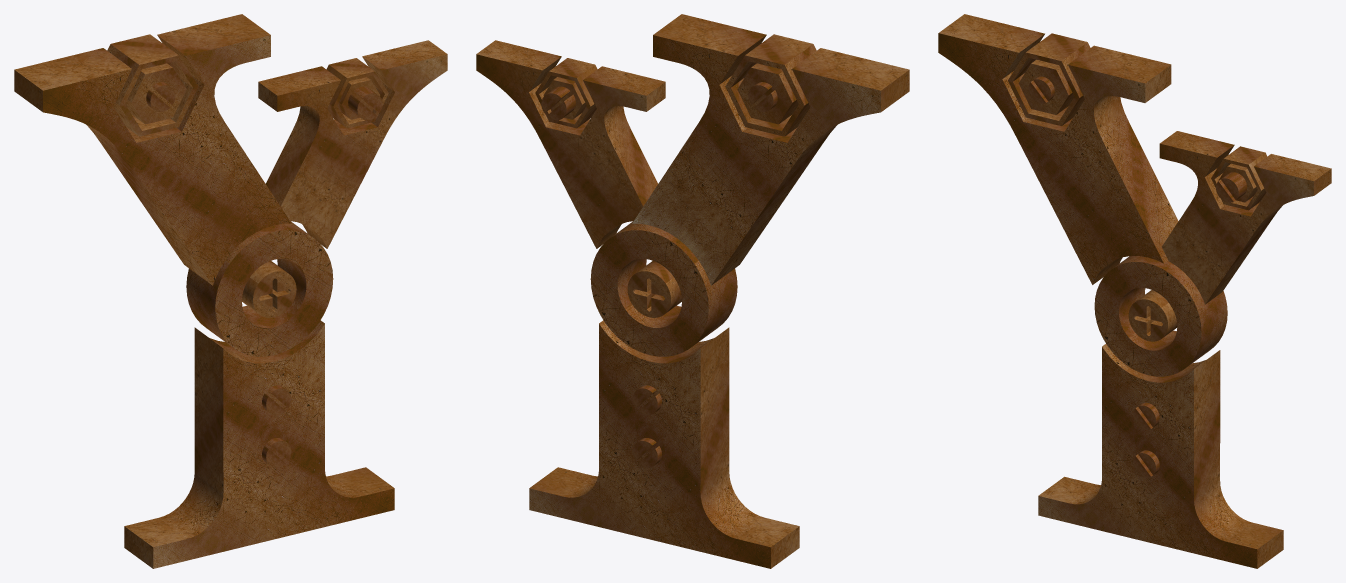
3 views of the same model, side by side, from view 1: azimuth 30°, elevation 25°; view 2: azimuth 150°, elevation 25°; view 3: azimuth 330°, elevation 25° (orthographic). The views are drawn at different scales.
Parts seen in each view (by area): view 1: Y, NGon_011, NGon_008, Screw_487, Screw_809, Screw_808, Screw_813, Screw_814; view 2: Y, NGon_011, NGon_008, Screw_487, Screw_809, Screw_808, Screw_813, Screw_814; view 3: Y, NGon_011, Screw_487, NGon_008, Screw_809, Screw_808, Screw_814, Screw_813.
Boxes of the visible parts, x1,y1,x2,y2 form: Y: [14, 14, 447, 568]; NGon_011: [107, 34, 198, 136]; NGon_008: [326, 58, 388, 128]; Screw_487: [242, 261, 296, 317]; Screw_809: [348, 86, 382, 120]; Screw_808: [146, 82, 175, 111]; Screw_813: [262, 385, 291, 415]; Screw_814: [262, 438, 291, 467]; Y: [476, 14, 909, 568]; NGon_011: [725, 34, 816, 136]; NGon_008: [535, 58, 597, 128]; Screw_487: [627, 261, 681, 317]; Screw_809: [541, 86, 575, 120]; Screw_808: [748, 82, 777, 111]; Screw_813: [632, 385, 661, 415]; Screw_814: [632, 438, 661, 467]; Y: [938, 14, 1331, 568]; NGon_011: [1008, 33, 1090, 125]; Screw_487: [1128, 290, 1177, 341]; NGon_008: [1211, 146, 1267, 210]; Screw_809: [1216, 172, 1247, 202]; Screw_808: [1028, 76, 1054, 103]; Screw_814: [1133, 450, 1159, 477]; Screw_813: [1133, 402, 1159, 429].
Size of the model in its own units: 82.04 by 97.12 by 12.89.
1 material, 1 textured.
